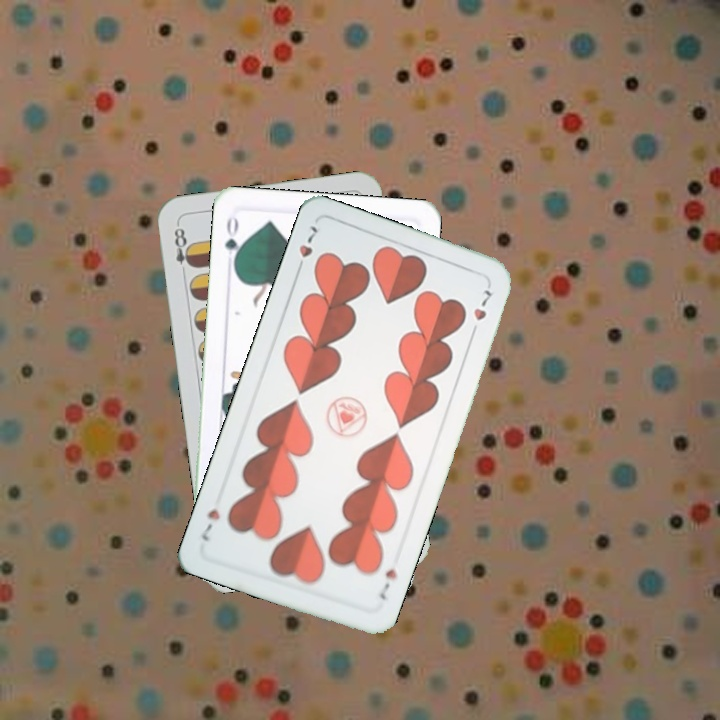E8: (170, 220, 196, 279)
GO: (220, 212, 245, 271)
H7: (292, 221, 322, 277), (375, 564, 400, 603)
